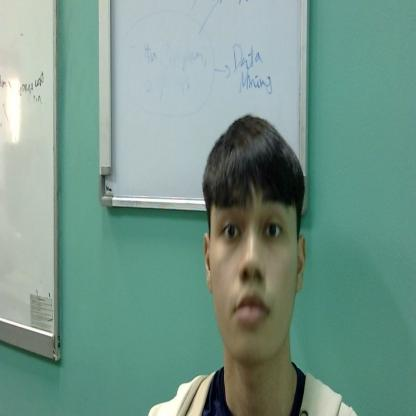Open-Eyes: (216, 197, 292, 254)
